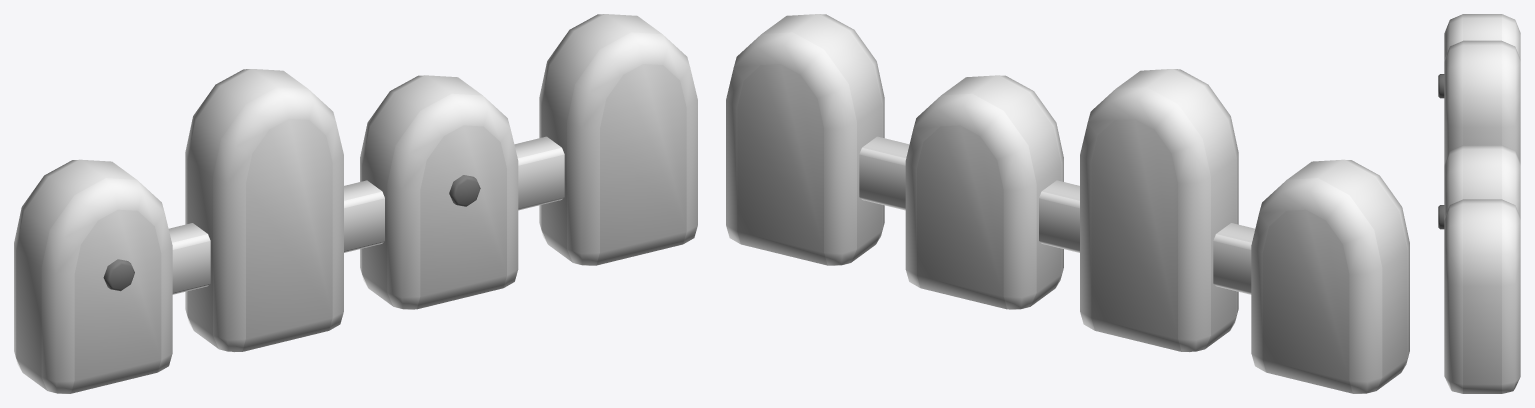
The model's file is fenche.fbx.
3 views of the same model, side by side, from view 1: azimuth 30°, elevation 25°; view 2: azimuth 150°, elevation 25°; view 3: azimuth 270°, elevation 25° (orthographic). The views are drawn at different scales.
Parts seen in each view (by area): view 1: fenche; view 2: fenche; view 3: fenche.
Part boxes in pixels (x1,y1,x2,y2): fenche: [14, 14, 697, 393]; fenche: [726, 14, 1409, 393]; fenche: [1438, 14, 1520, 393].
Bounding box in the file's own units: 213 × 79.35 × 30.1.
1 material, 1 textured.
